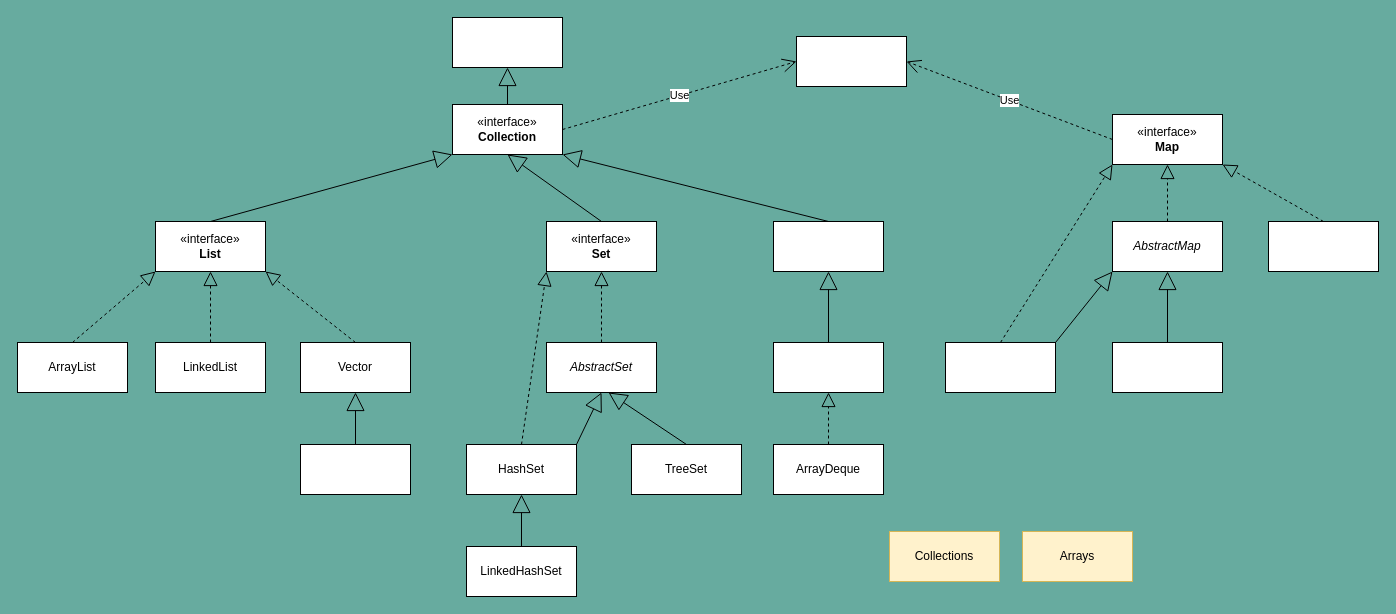
This 1396x614 diagram has some shape labels left out. The shapes that lost their labels are listed below. From the top down, each one's centre as x and y in pixels, then its label:
At (507,42): "«interface» Iterable".
At (851,61): "«interface» Iterator".
At (828,246): "«interface» Queue".
At (1323,246): "Hashtable".
At (828,367): "«interface» Deque".
At (1000,367): "HashMap".
At (1167,367): "TreeMap".
At (355,469): "Stack".
